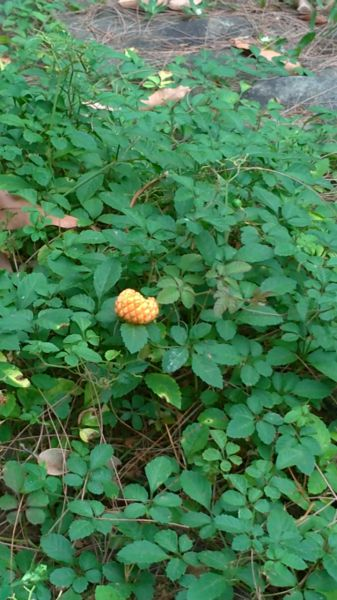eggs: (110, 286, 163, 330)
